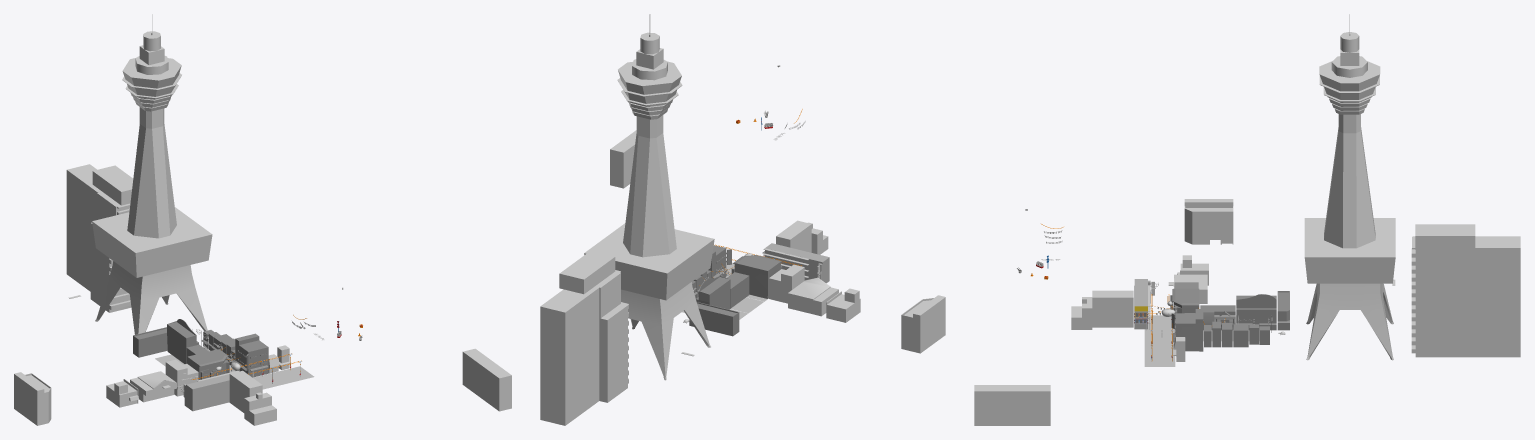
The model's file is KARI_HAITI.FBX.
The picture shows the model from 3 angles, left to right: view 1: azimuth 30°, elevation 25°; view 2: azimuth 150°, elevation 25°; view 3: azimuth 270°, elevation 25°; orthographic projection. The views are drawn at different scales.
Visible parts, largest first — view 1: Box053, Cylinder004, Box004, Box066, Box062, Box058, Box002, Box005, Box055, Box029, Box059, Box060 (+4 smaller); view 2: Box004, Cylinder004, Box053, Box062, Box005, Box055, DUBORAYA, Box058, Box066, Box057, Box054, Box056 (+4 smaller); view 3: Box004, Cylinder004, Box053, Box066, Box062, Box059, Box005, Box029, Box002, DUBORAYA, Box058, Box060 (+1 smaller).
Boxes of the visible parts, box(x1,y1,x2,y2) form: Box053: box(92, 207, 212, 334); Cylinder004: box(122, 14, 181, 238); Box004: box(66, 164, 131, 312); Box066: box(462, 348, 511, 411); Box062: box(14, 372, 51, 425); Box058: box(184, 374, 229, 411); Box002: box(234, 333, 268, 377); Box005: box(92, 165, 133, 205); Box055: box(130, 371, 176, 402); Box029: box(167, 319, 198, 363); Box059: box(229, 370, 262, 412); Box060: box(244, 392, 276, 425); Box004: box(540, 270, 628, 425); Cylinder004: box(617, 14, 682, 257); Box053: box(584, 223, 714, 380); Box062: box(901, 295, 945, 353); Box005: box(559, 251, 615, 294); Box055: box(788, 277, 838, 316); DUBORAYA: box(733, 255, 781, 298); Box058: box(765, 243, 829, 283); Box066: box(610, 130, 636, 188); Box057: box(689, 302, 739, 336); Box054: box(769, 264, 804, 303); Box056: box(826, 288, 860, 322); Box004: box(1411, 236, 1520, 357); Cylinder004: box(1319, 14, 1380, 248); Box053: box(1304, 218, 1395, 360); Box066: box(974, 385, 1050, 425); Box062: box(1184, 199, 1233, 244); Box059: box(1092, 290, 1133, 327); Box005: box(1415, 224, 1475, 249); Box029: box(1236, 294, 1276, 330); Box002: box(1171, 309, 1203, 351); DUBORAYA: box(1172, 288, 1199, 314); Box058: box(1134, 279, 1150, 329); Box060: box(1071, 297, 1092, 329).
Size of the model in its own units: 14768 by 12048 by 17895.
